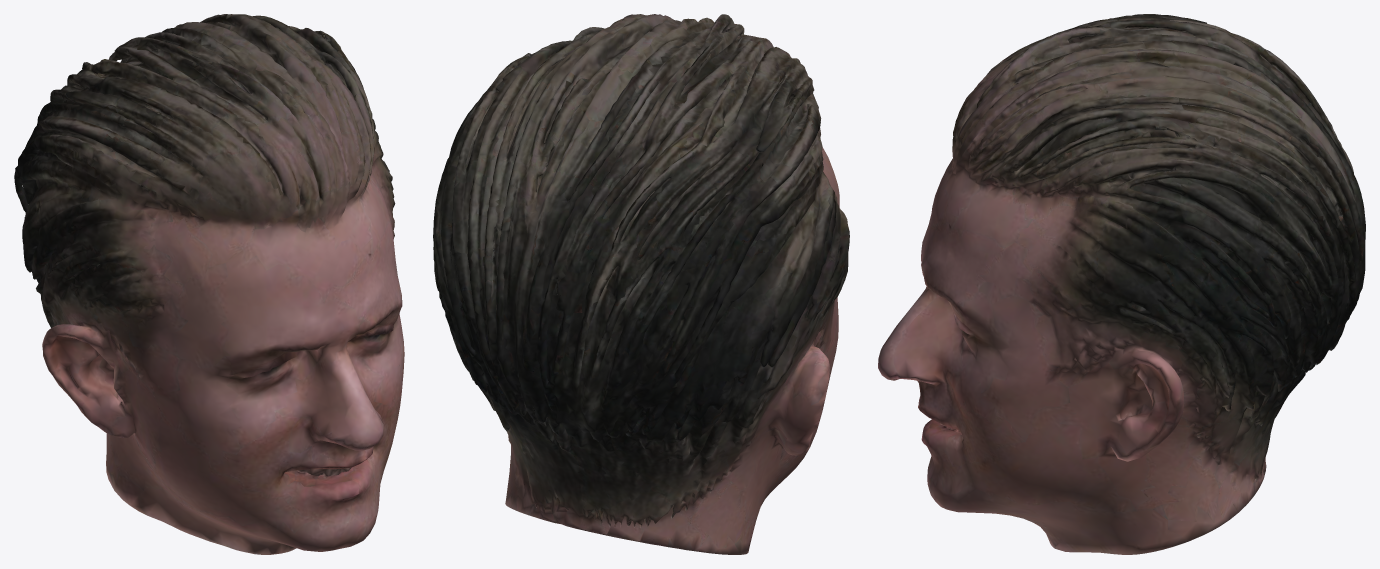
The model's file is head_beau.glb.
3 renders of one model, left to right at view 1: azimuth 30°, elevation 25°; view 2: azimuth 150°, elevation 25°; view 3: azimuth 270°, elevation 25°, orthographic. The views are drawn at different scales.
Parts seen in each view (by area): view 1: Beau; view 2: Beau; view 3: Beau.
Part boxes in pixels (box(x1,y1,x2,y2)): Beau: box(14, 14, 404, 554); Beau: box(433, 14, 849, 554); Beau: box(878, 14, 1365, 554).
Size of the model in its own units: 0.1924 by 0.2627 by 0.2355.
Materials: 1 (1 with a texture image).
